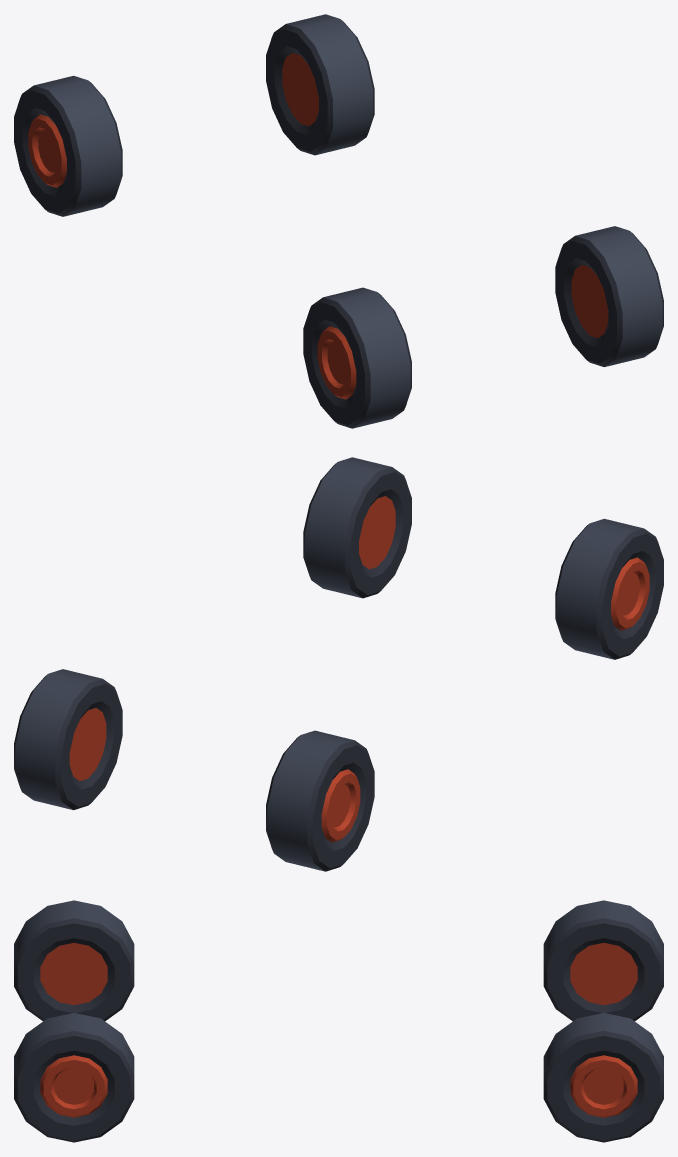
The model's file is WheelsSimple.fbx.
The picture shows the model from 3 angles, top to bottom: view 1: azimuth 30°, elevation 25°; view 2: azimuth 150°, elevation 25°; view 3: azimuth 270°, elevation 25°; orthographic projection. The views are drawn at different scales.
Visible parts, largest first — view 1: WheelSimpleFrontLeft, WheelSimpleRearRight, WheelSimpleFrontRight, WheelSimpleRearLeft; view 2: WheelSimpleFrontRight, WheelSimpleRearLeft, WheelSimpleFrontLeft, WheelSimpleRearRight; view 3: WheelSimpleFrontLeft, WheelSimpleRearLeft, WheelSimpleFrontRight, WheelSimpleRearRight.
Part boxes in pixels (<box>): WheelSimpleFrontLeft: <box>555,226,663,367</box>; WheelSimpleRearRight: <box>14,75,122,216</box>; WheelSimpleFrontRight: <box>303,287,411,428</box>; WheelSimpleRearLeft: <box>266,14,374,155</box>; WheelSimpleFrontRight: <box>555,518,663,659</box>; WheelSimpleRearLeft: <box>14,669,122,810</box>; WheelSimpleFrontLeft: <box>303,457,411,598</box>; WheelSimpleRearRight: <box>266,730,374,871</box>; WheelSimpleFrontLeft: <box>14,1013,134,1142</box>; WheelSimpleRearLeft: <box>543,1013,663,1142</box>; WheelSimpleFrontRight: <box>14,900,134,1021</box>; WheelSimpleRearRight: <box>543,900,663,1021</box>.
Bounding box in the file's own units: 135 × 52.77 × 278.
